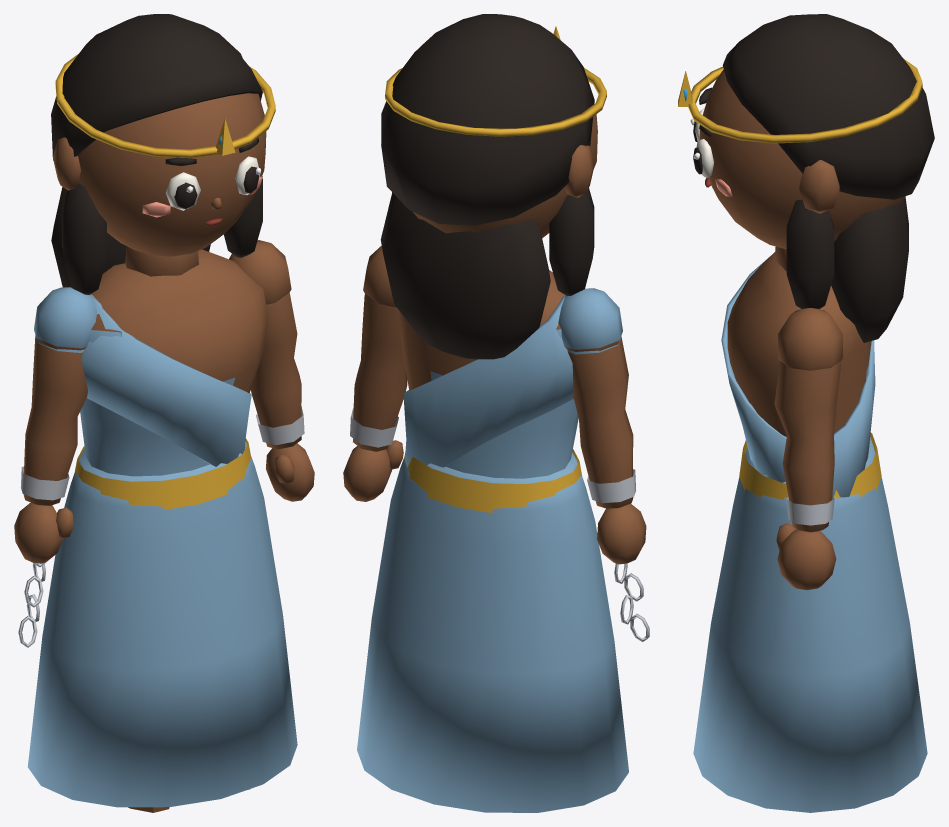
File: andromeda.glb
3 renders of one model, left to right at view 1: azimuth 30°, elevation 25°; view 2: azimuth 150°, elevation 25°; view 3: azimuth 270°, elevation 25°, orthographic.
Parts seen in each view (by area): view 1: huefte, rumpf, haare, kopf, armL, armR, kopfschmuck, augeL, itemL, augeR; view 2: huefte, haare, rumpf, armL, armR, kopf, kopfschmuck, itemL; view 3: huefte, haare, rumpf, armR, kopf, kopfschmuck, augeR.
Part boxes in pixels (x1,y1,x2,y2): huefte: (27,441,297,807); rumpf: (75,249,268,509); haare: (51,14,262,294); kopf: (53,93,266,276); armL: (14,287,96,563); armR: (229,240,314,501); kopfschmuck: (55,54,275,158); augeL: (165,172,200,210); itemL: (18,562,46,647); augeR: (235,156,260,194); huefte: (357,452,628,812); haare: (380,14,594,359); rumpf: (399,270,581,512); armL: (558,288,646,564); armR: (343,246,407,501); kopf: (413,114,597,238); kopfschmuck: (385,26,606,136); itemL: (614,563,649,641); huefte: (693,437,927,812); haare: (722,14,934,342); rumpf: (721,252,881,500); armR: (774,308,842,590); kopf: (700,69,905,271); kopfschmuck: (678,58,922,143); augeR: (693,139,713,177).
Size of the model in its own units: 0.9432 by 2.29 by 0.7125.
